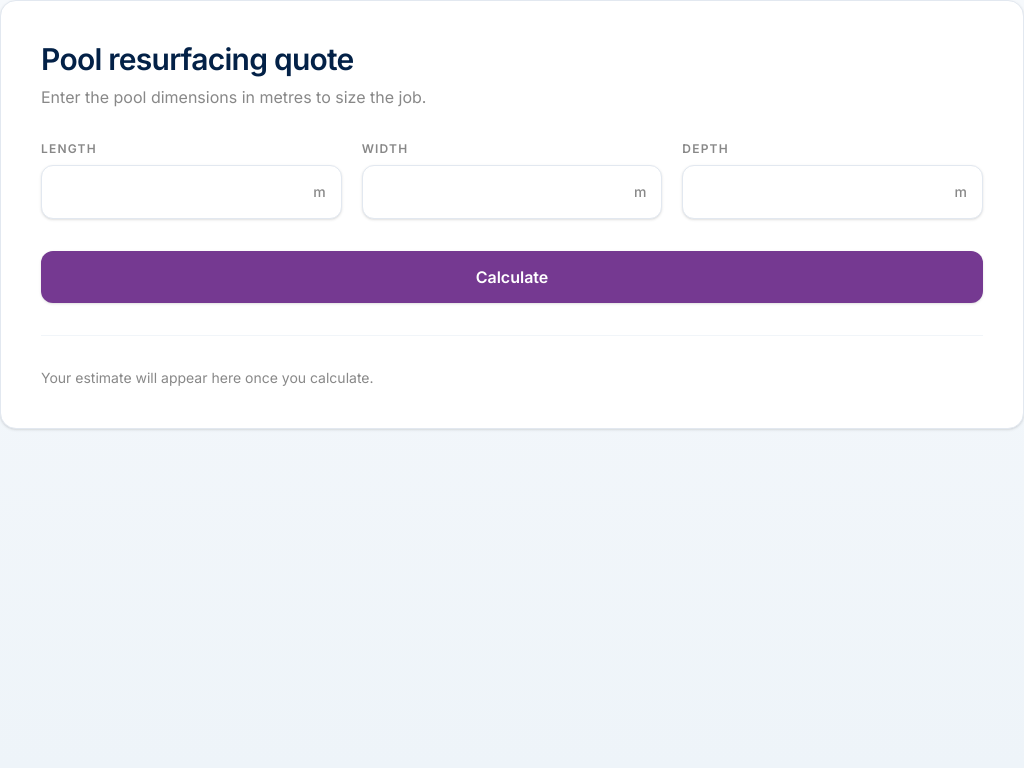
Scenario: Calculator › clears a previous result when input becomes invalid
Step 1. Type "2" into the number field labelled "Length" → [191, 192], box [41,165,342,219]
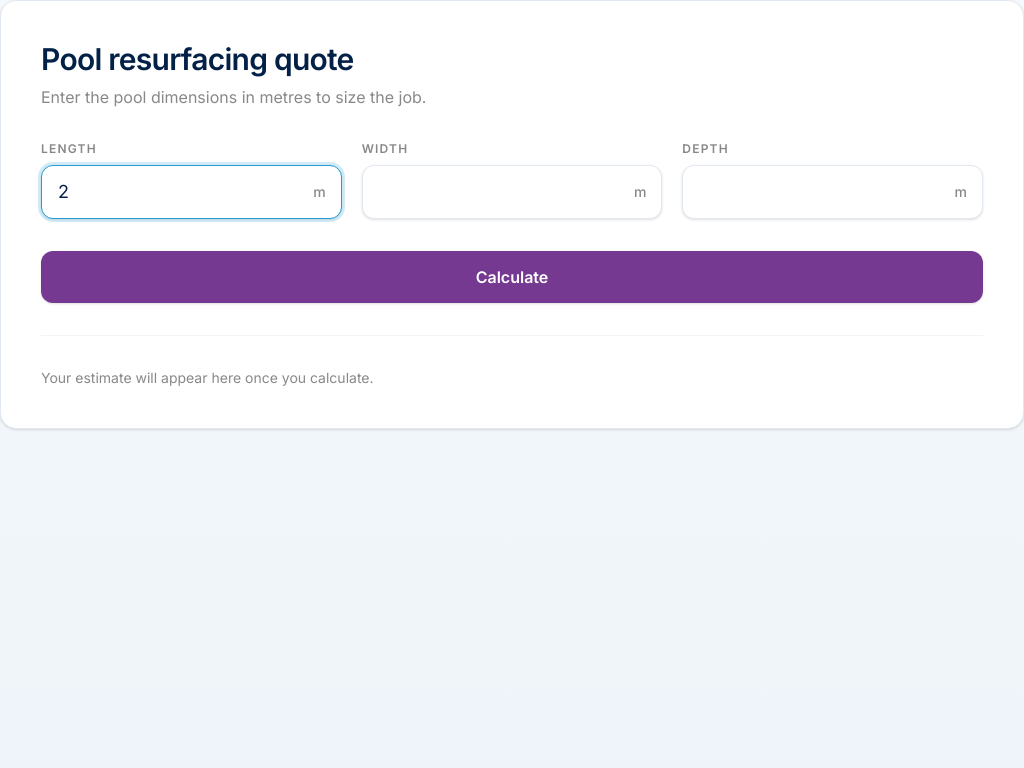
Step 2. Type "2" into the number field labelled "Width" → [512, 192], box [362,165,662,219]
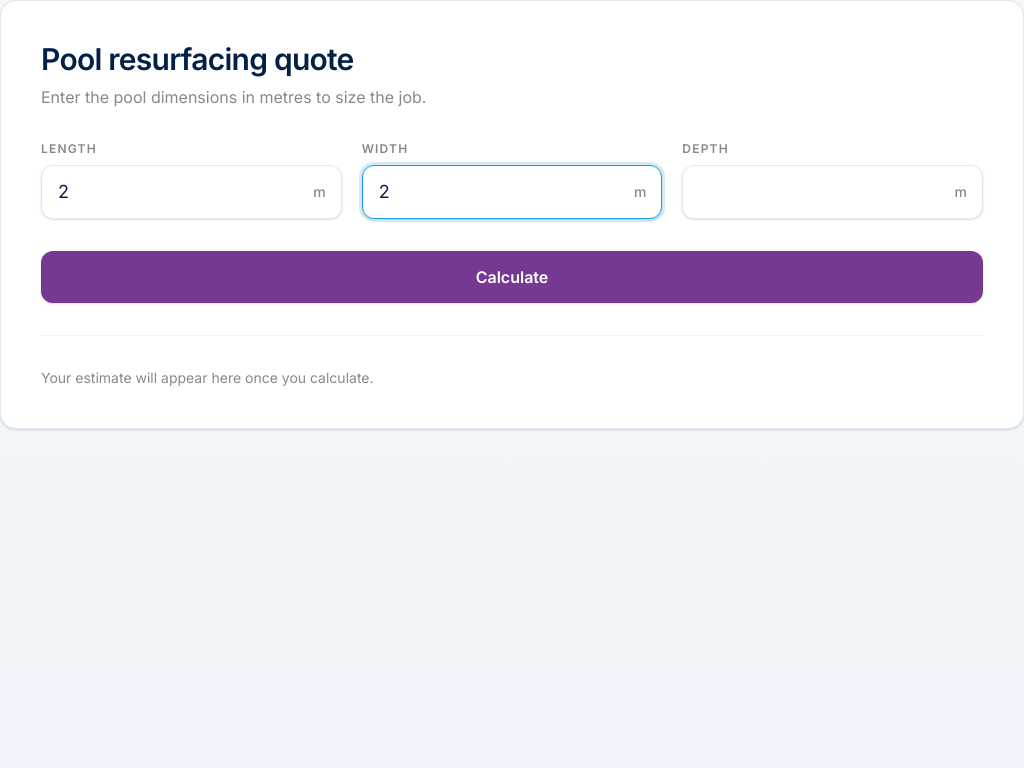
Step 3. Type "2" into the number field labelled "Depth" → [833, 192], box [682,165,983,219]
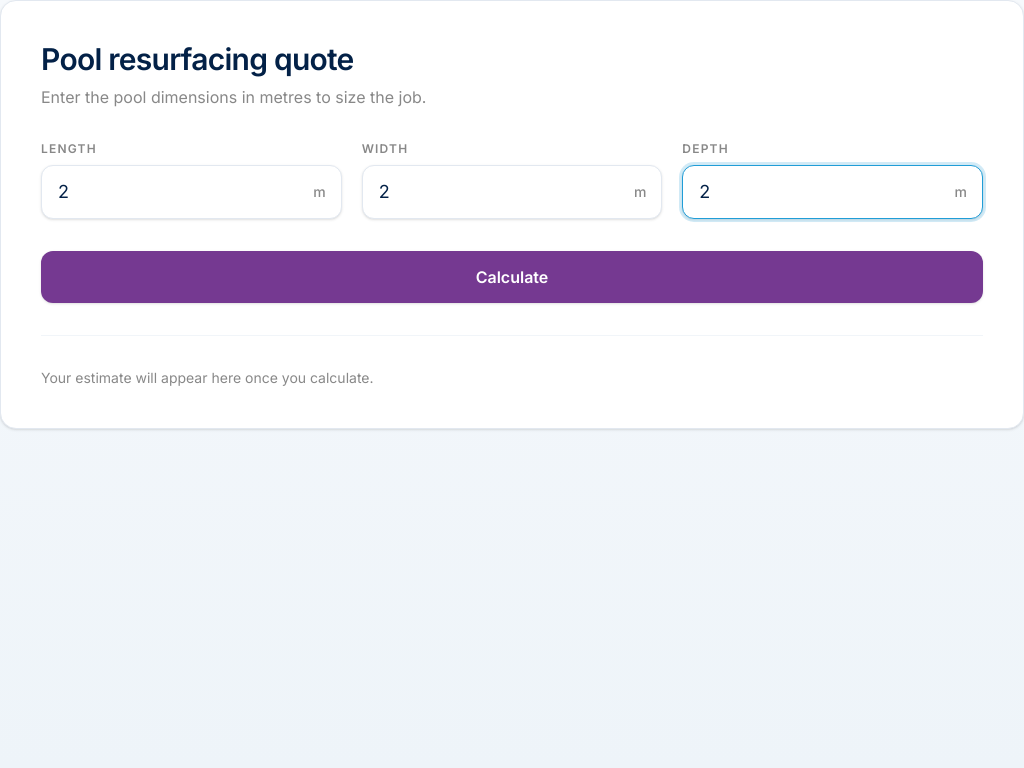
Step 4. Click the button "Calculate" → [512, 277], box [41,251,983,303]
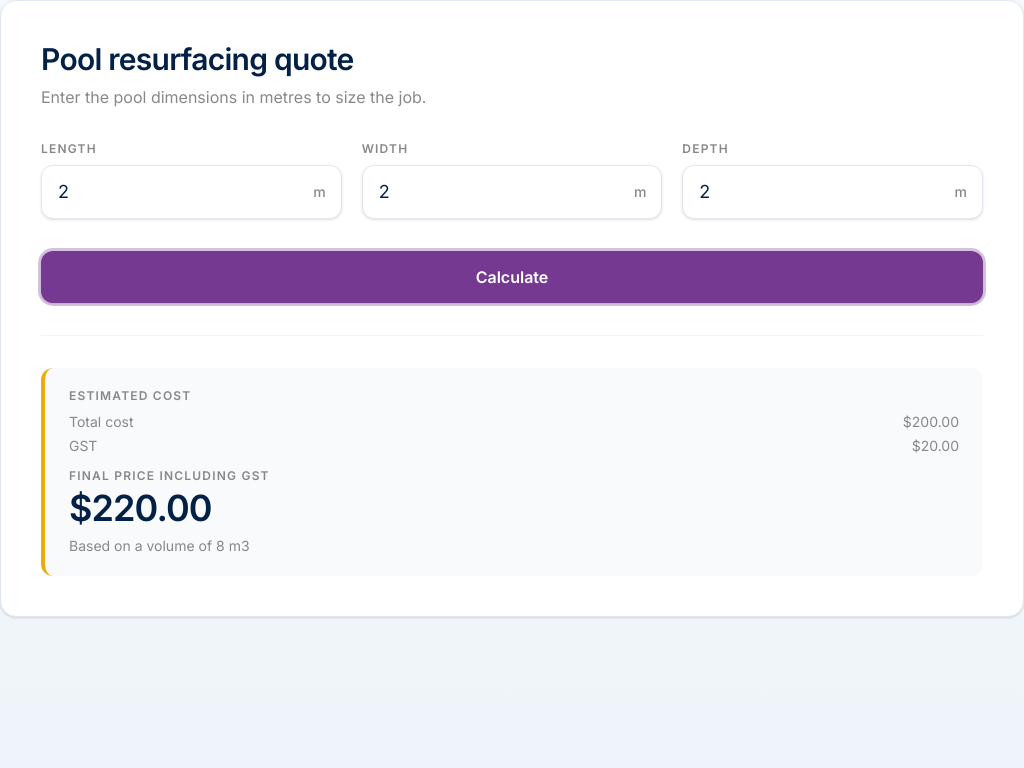
Expected: the text "$220.00" is shown, [69,486,212,530]
Step 5. Clear the number field labelled "Depth" → [833, 192], box [682,165,983,219]
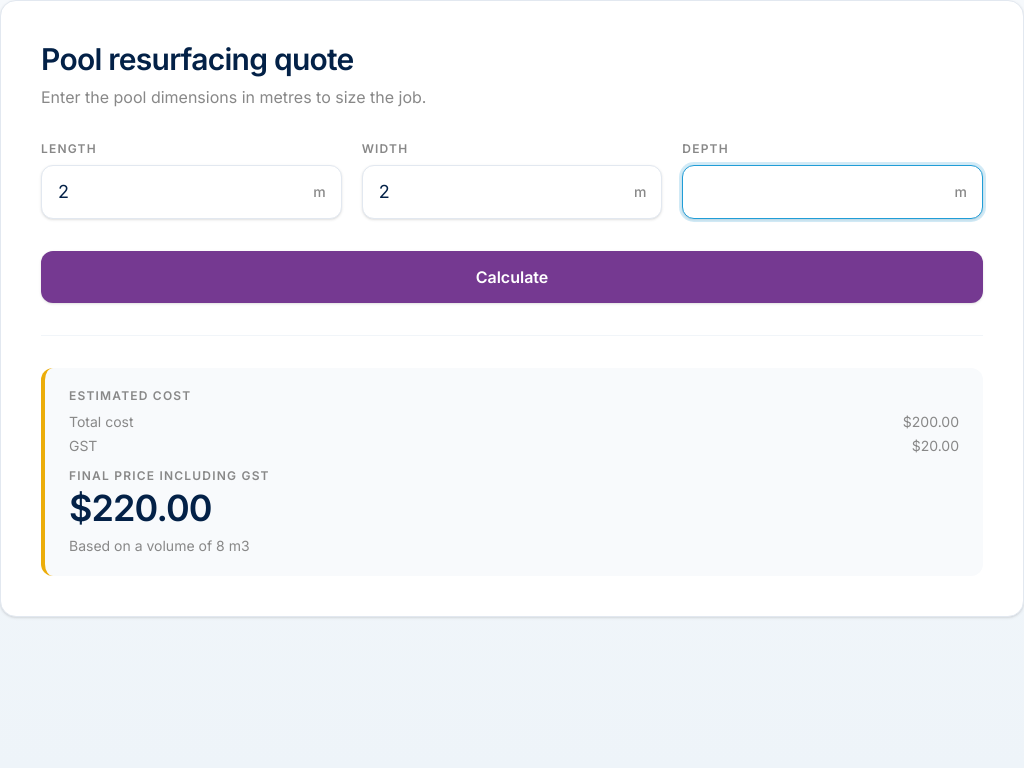
Step 6. Click the button "Calculate" → [512, 277], box [41,251,983,303]
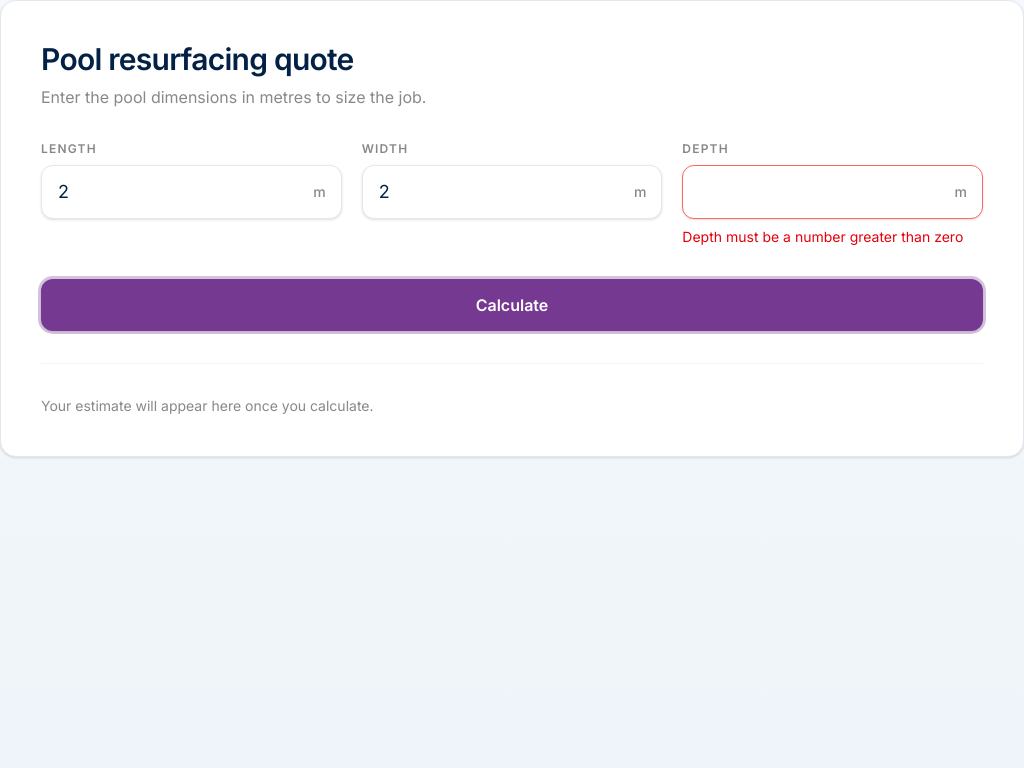
Expected: the text "$220.00" is gone
Expected: the text "Depth must be a number greater than zero" is shown, [682,227,983,247]
